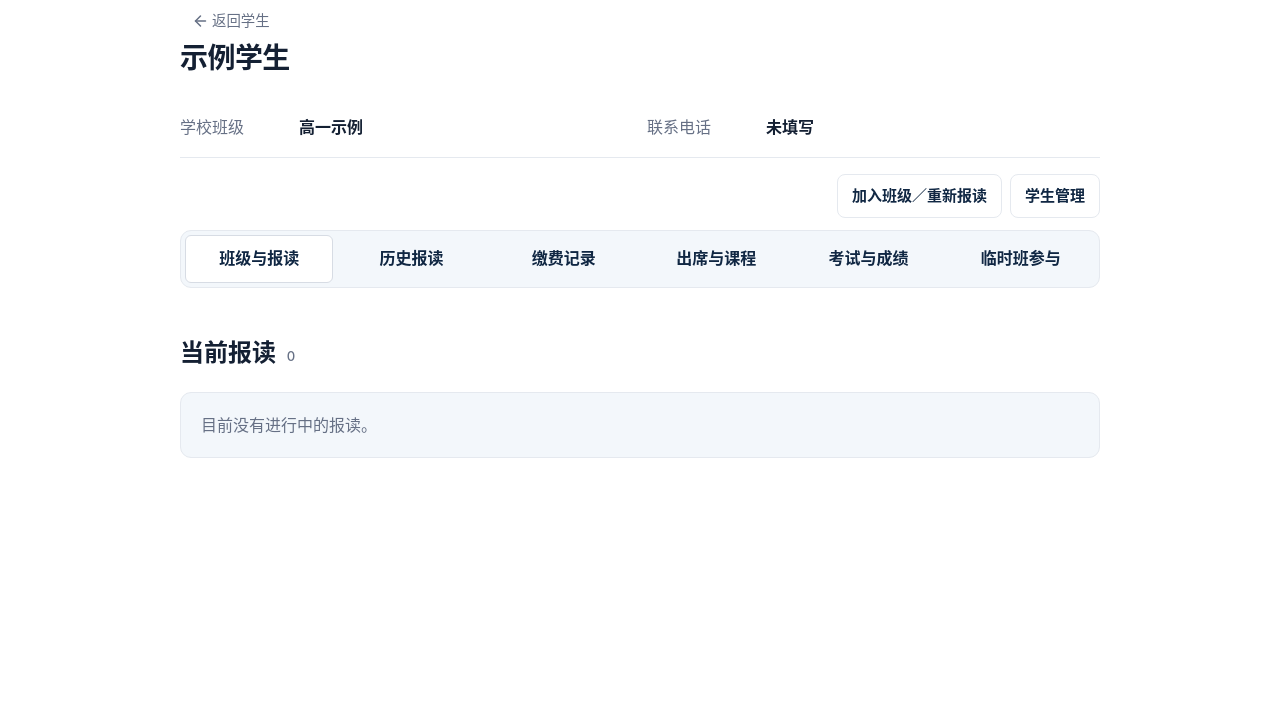
Test: student history is selected above the list and its detail returns to that same history
Expected: the heading "示例学生" is shown, [180,42,290,75]
Expected: the button "示例班" is not shown
Click the button "历史报读" at point(411, 259), box [337,235,486,283]
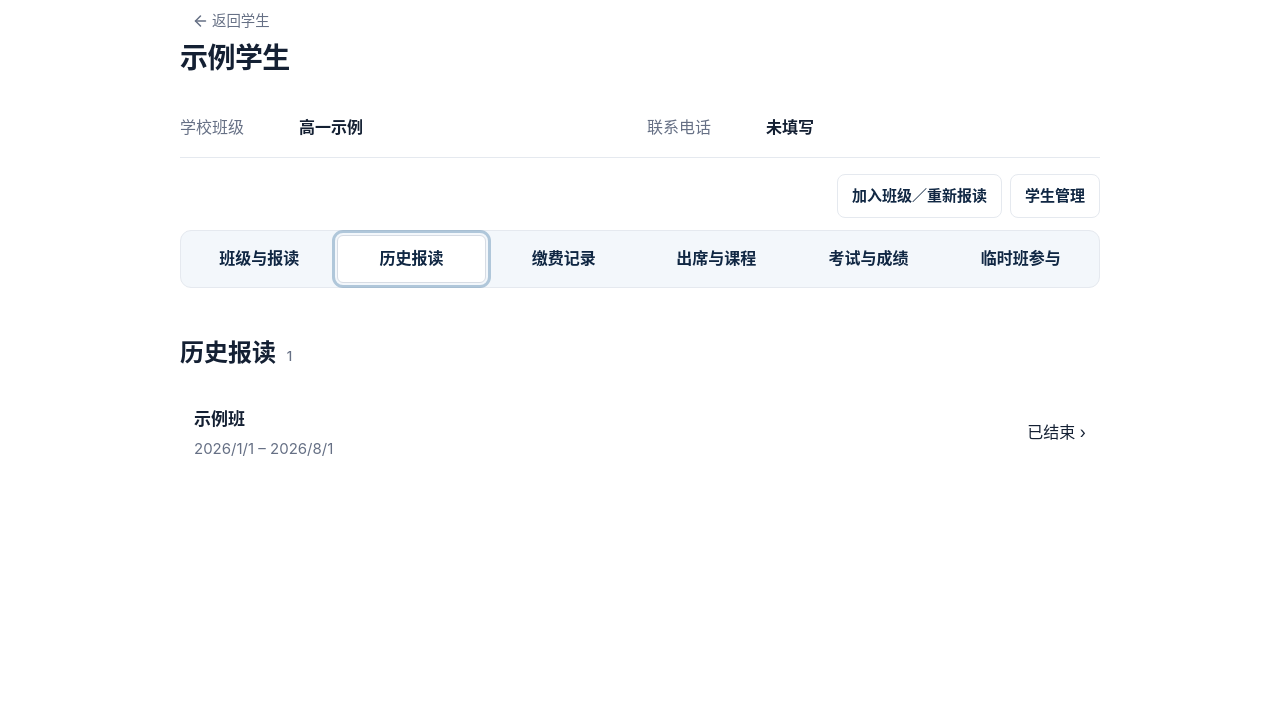
Click the button "示例班 2026/1/1 – 2026/8/1 已结束 ›" at point(220, 419), box [180,392,1100,473]
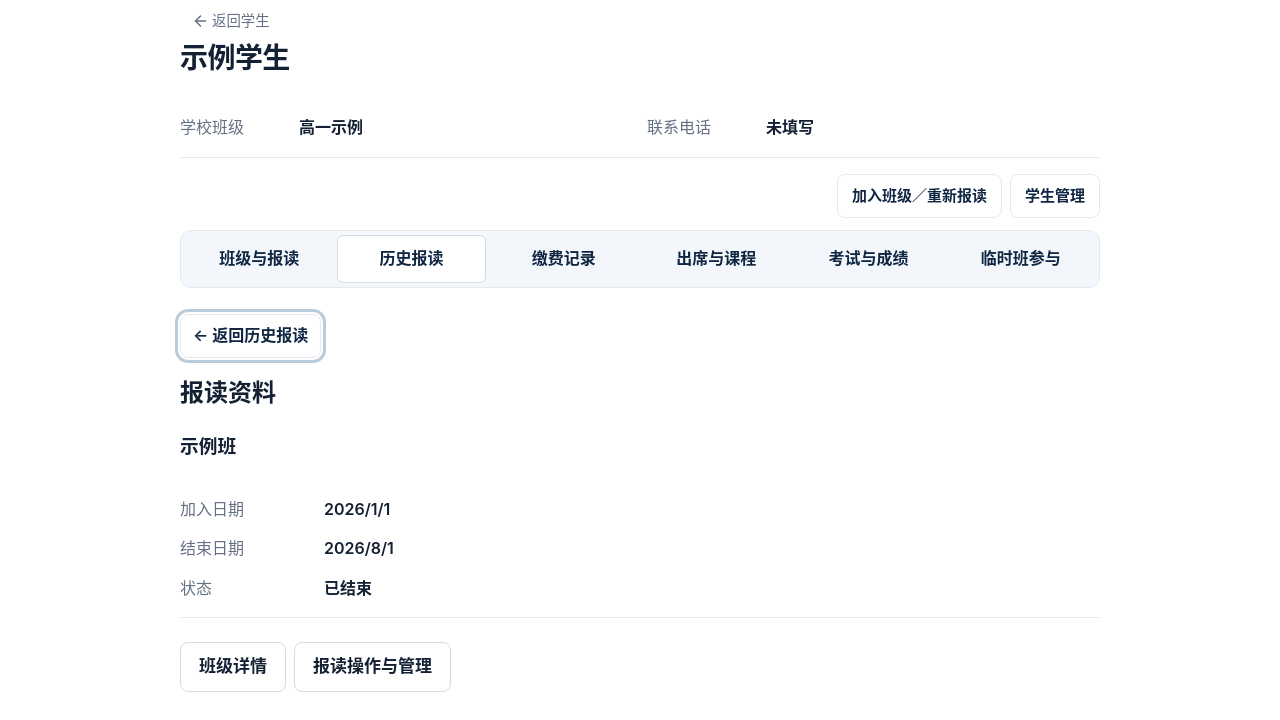
Click the button "← 返回历史报读" at point(251, 336), box [180,314,321,358]
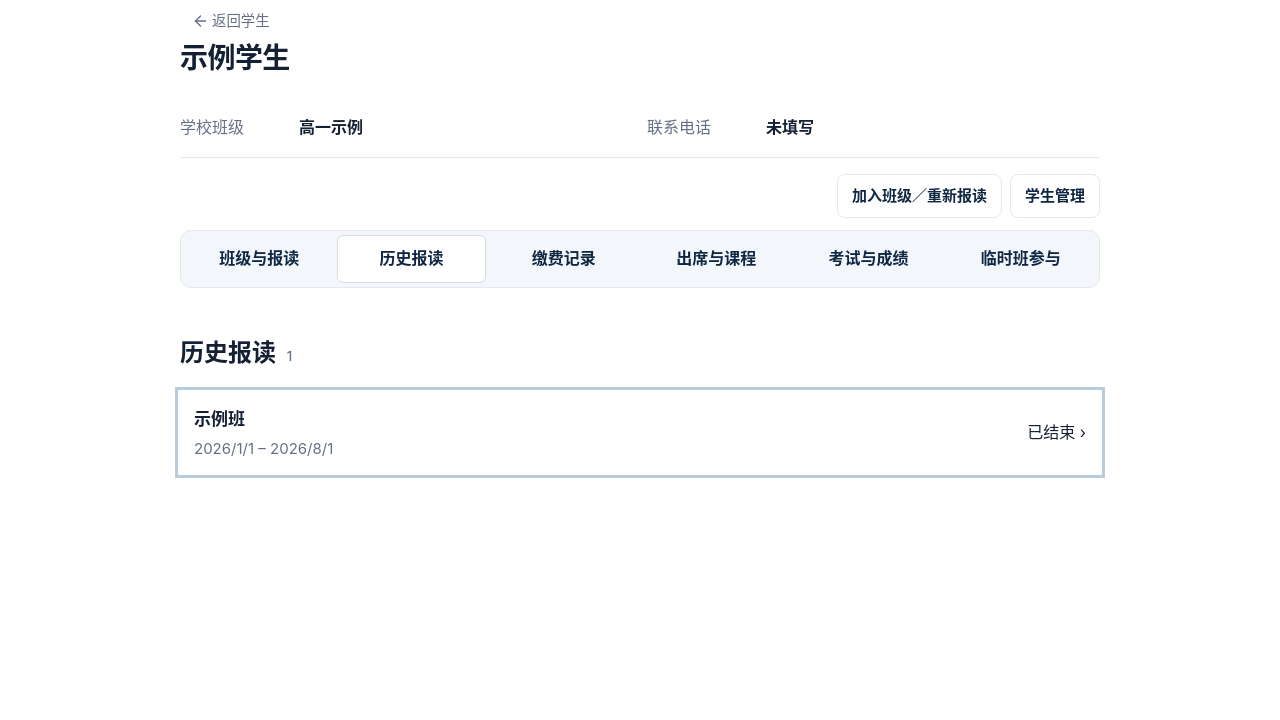
Result: the button "示例班 2026/1/1 – 2026/8/1 已结束 ›" is shown at [180,392,1100,473]
